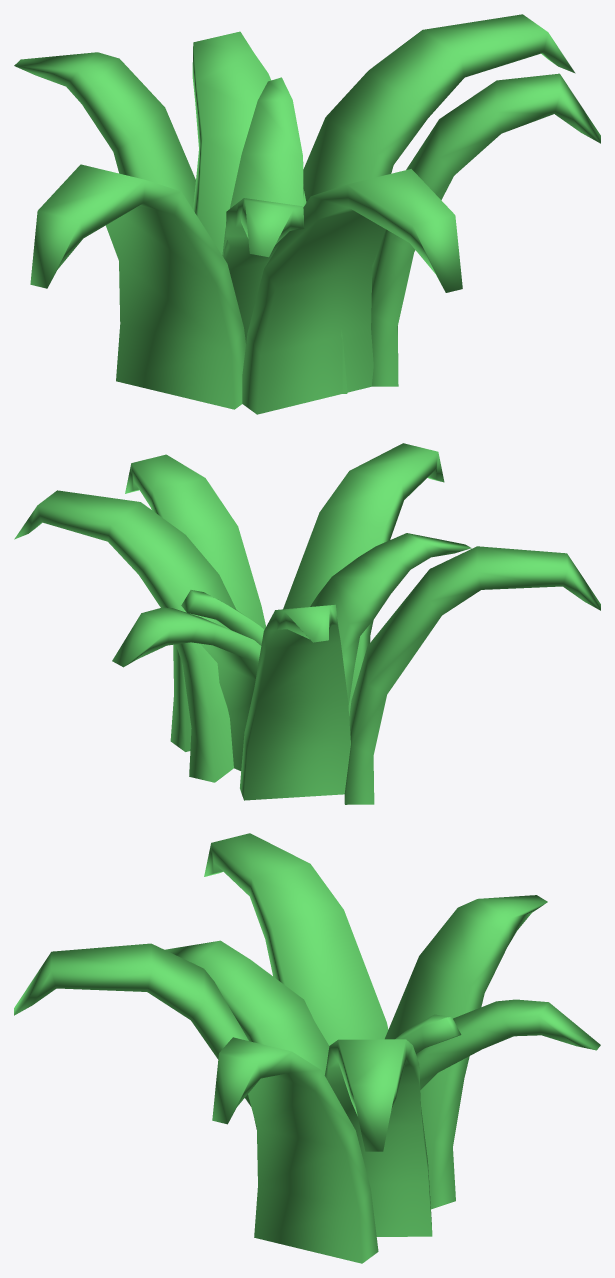
The model's file is Toiceira_1.fbx.
The picture shows the model from 3 angles, top to bottom: view 1: azimuth 30°, elevation 25°; view 2: azimuth 150°, elevation 25°; view 3: azimuth 270°, elevation 25°; orthographic projection. The views are drawn at different scales.
Visible parts, largest first — view 1: Toiceira_1; view 2: Toiceira_1; view 3: Toiceira_1.
Boxes of the visible parts, bbox=[...] form: Toiceira_1: bbox=[14, 14, 600, 414]; Toiceira_1: bbox=[14, 443, 600, 804]; Toiceira_1: bbox=[14, 833, 600, 1263].
Bounding box in the file's own units: 0.544 × 0.6106 × 0.2562.
